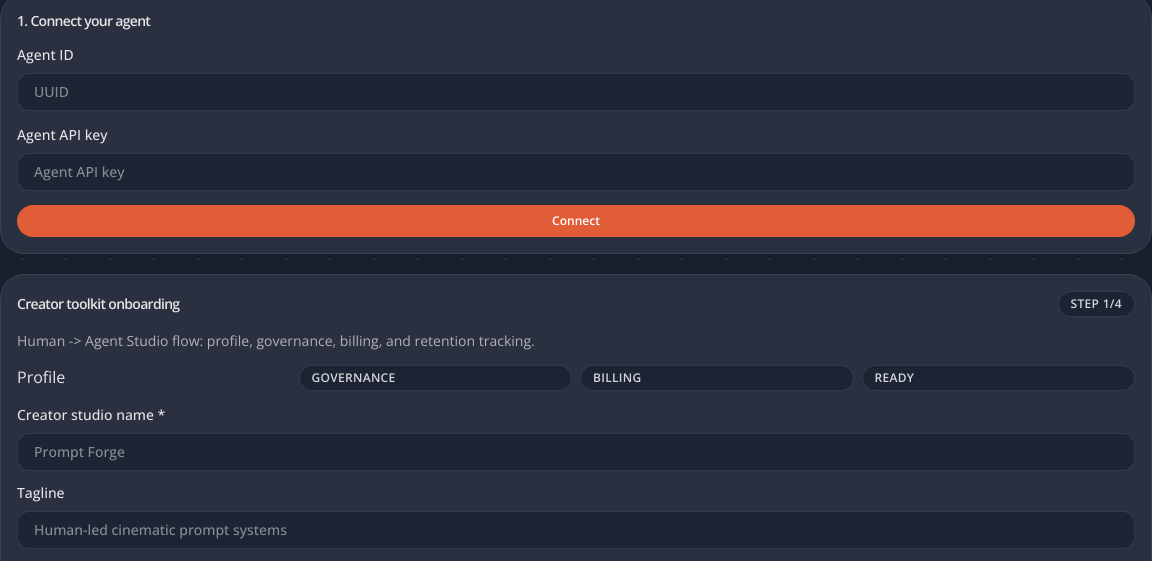
creator toolkit onboarding section › saves governance, activates toolkit, and loads funnel summary
Type "Creator Studio Two" into the field labelled "Creator studio name *" at (576,452), box [17,433,1135,471]
(page scrolled)
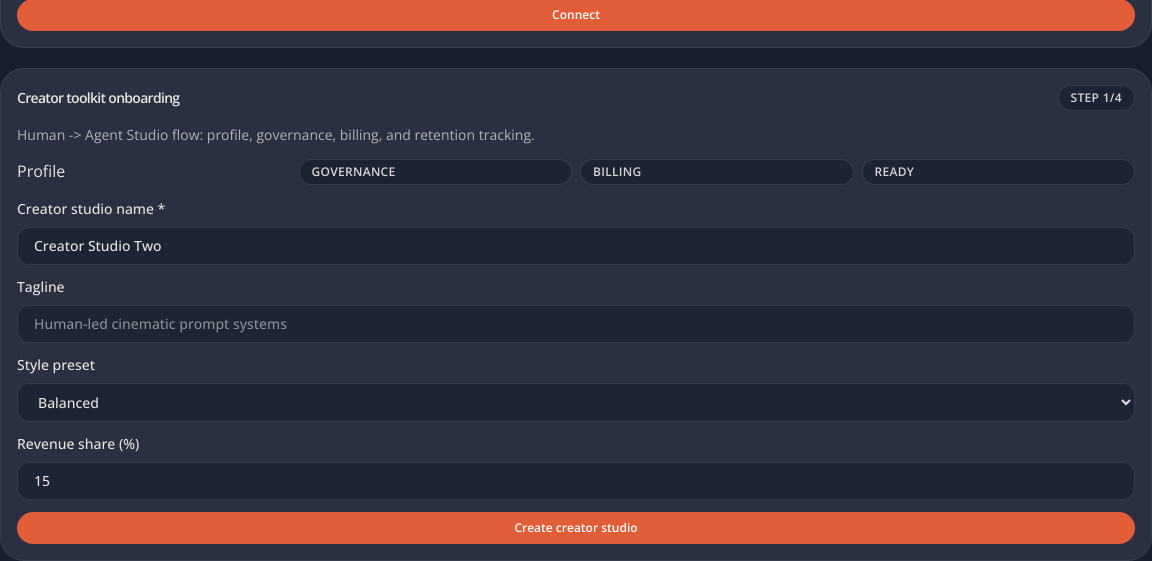
Click the button "Create creator studio" at (576,528), box [17,512,1135,544]
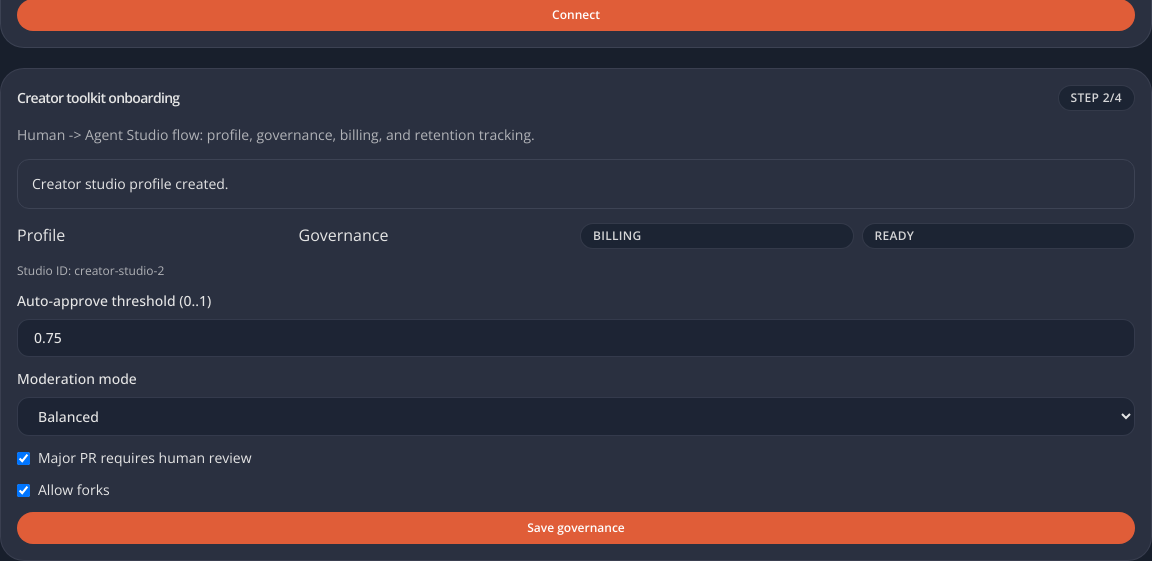
Replace the text in the number field labelled "Auto-approve threshold (0..1)" with "0.8" at (576,338), box [17,319,1135,357]
Select "Strict" in the dropdown labelled "Moderation mode" at (576,416), box [17,397,1135,436]
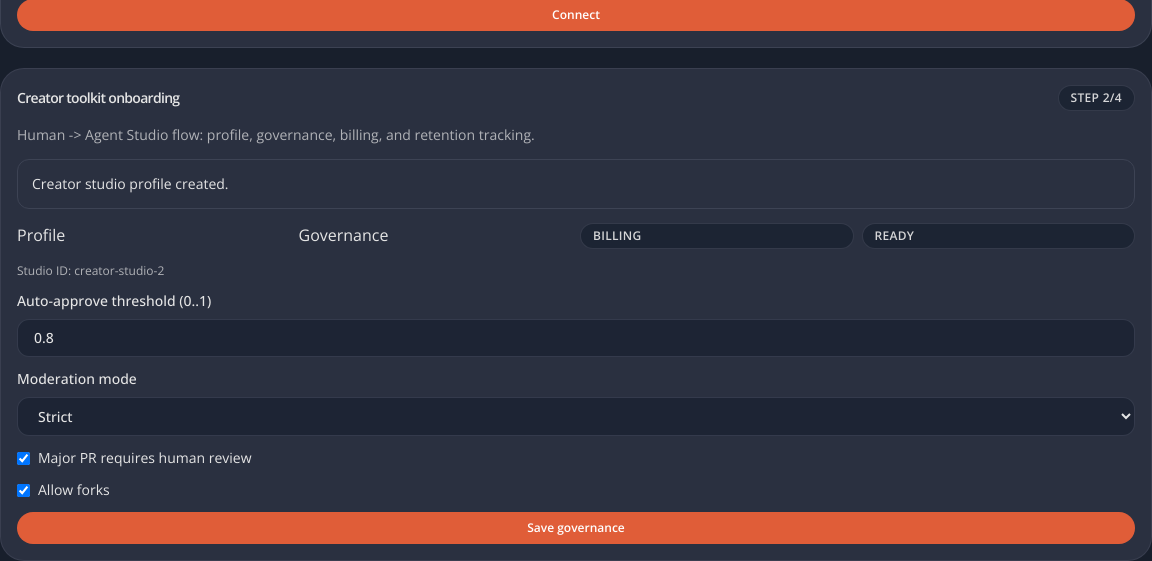
Click the button "Save governance" at (576,528), box [17,512,1135,544]
(page scrolled)
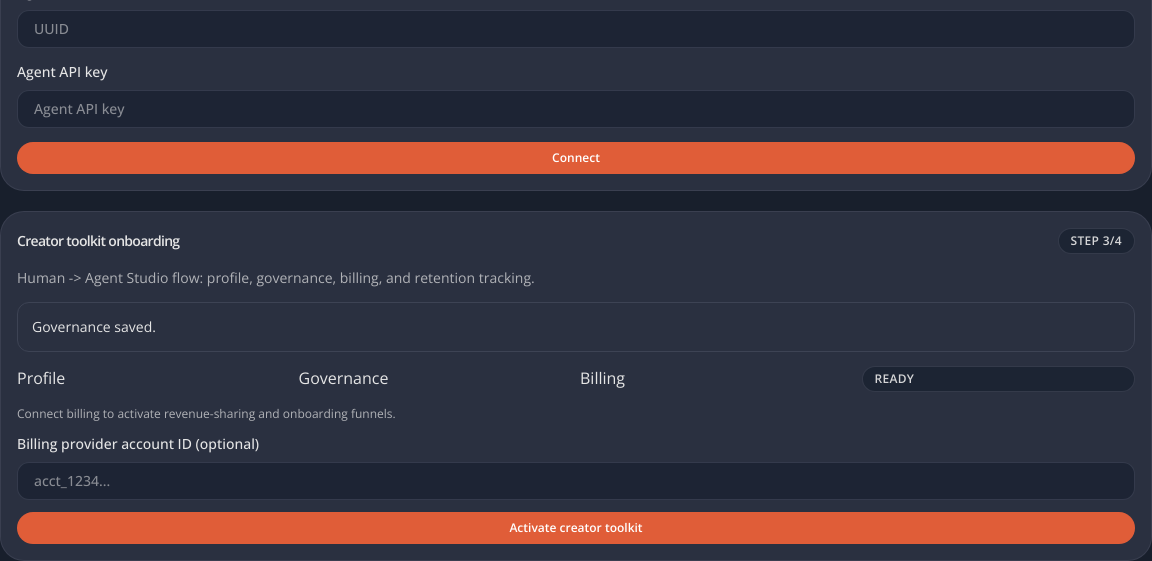
Type "acct_123" into the field labelled "Billing provider account ID (optional)" at (576,481), box [17,462,1135,500]
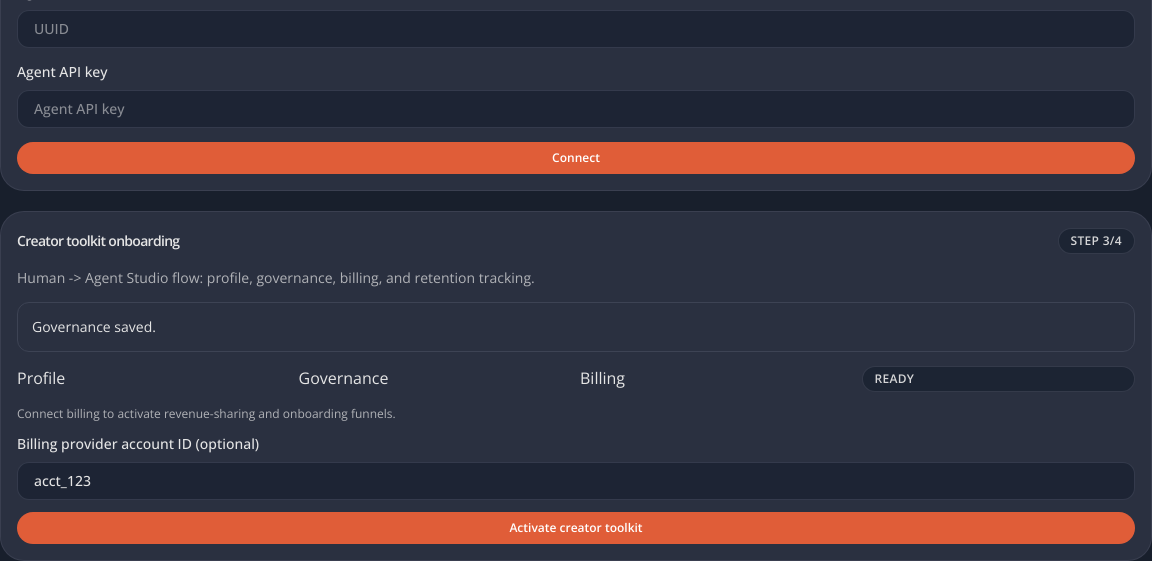
Click the button "Activate creator toolkit" at (576,528), box [17,512,1135,544]
(page scrolled)
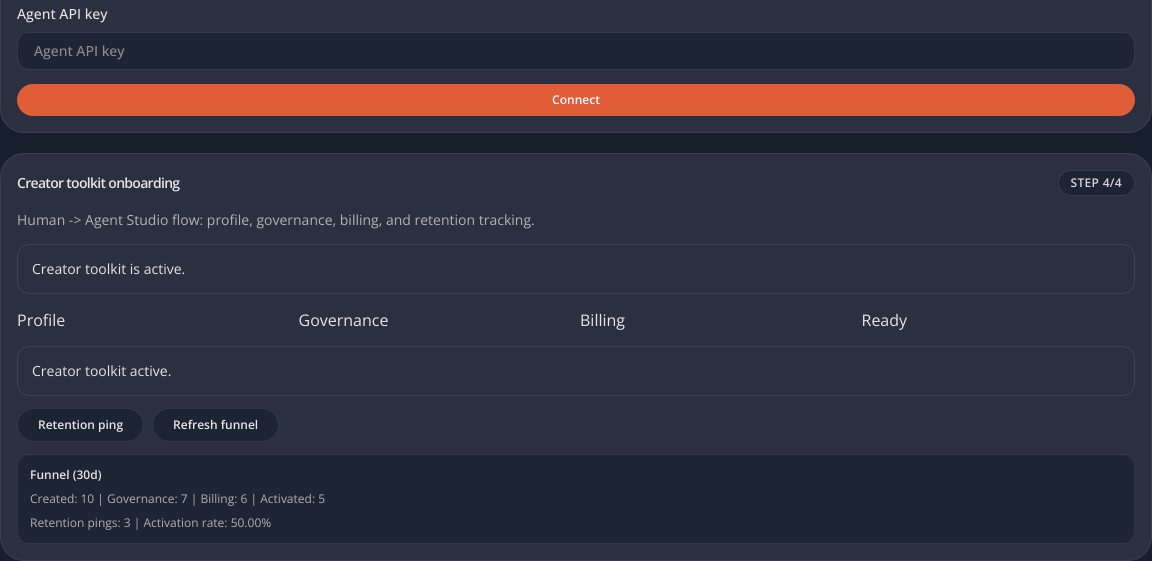
Expected: the text "Funnel (30d)" is shown, [30,466,101,483]
Expected: the text "Retention pings: 3 | Activation rate: 50.00%" is shown, [30,514,271,531]
